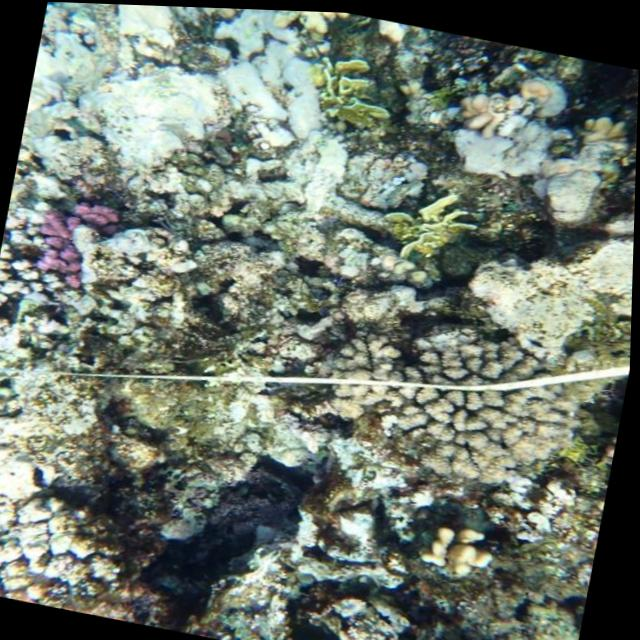Bleached Coral: (13, 1, 345, 237), (0, 375, 139, 615), (436, 47, 629, 208), (0, 237, 174, 414)
Healthy Coral: (311, 298, 592, 496), (23, 193, 136, 286)
